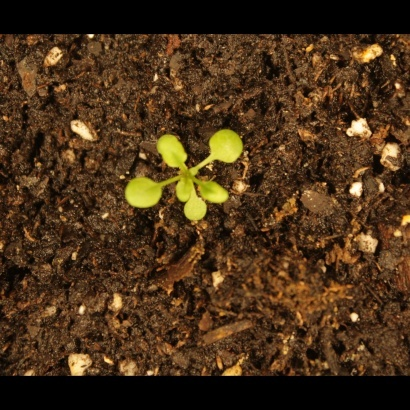leaf: (116, 173, 169, 211), (205, 125, 249, 170), (147, 130, 196, 169), (199, 179, 235, 209), (180, 193, 212, 225), (174, 175, 199, 203)
